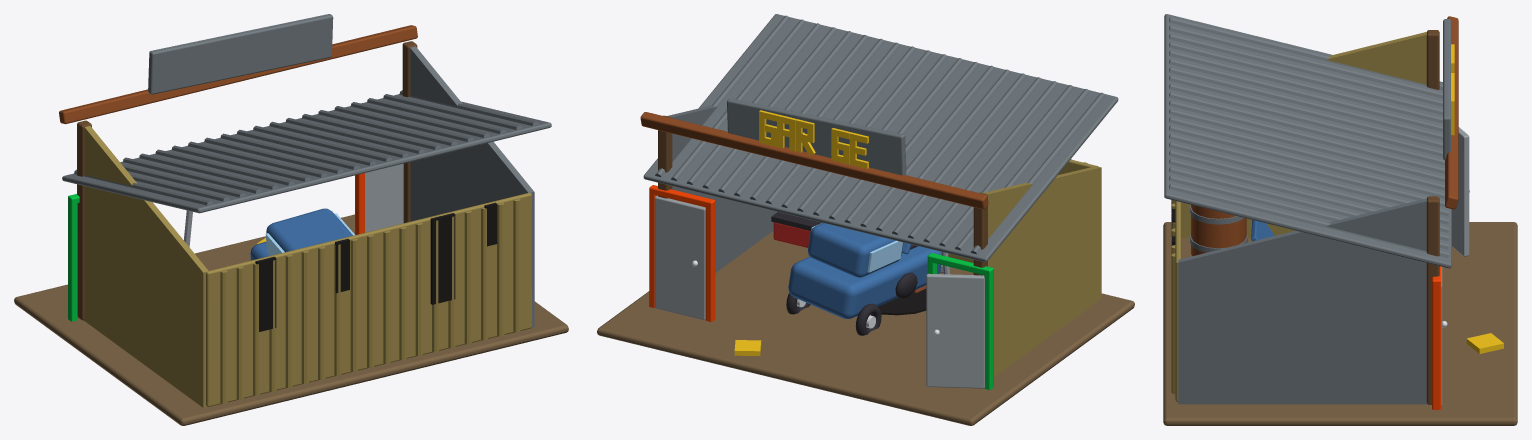
The model's file is building_vehicle_depot_t1.glb.
The picture shows the model from 3 angles, left to right: view 1: azimuth 30°, elevation 25°; view 2: azimuth 150°, elevation 25°; view 3: azimuth 270°, elevation 25°; orthographic projection. The views are drawn at different scales.
Parts seen in each view (by area): view 1: WallB.Sheet, WallS-1, WallB.Ridge, Roof.Ridge, Lot, Roof.Sheet, WallS1, Sign, Roof.Lip, Exit.Leaf, Car.Cabin, Streak2 (+6 smaller); view 2: Roof.Sheet, Lot, Roof.Ridge, WallS-1, Entry.Leaf, Exit.Leaf, Car.Body, Roof.Lip, Sign, WallS1, Car.Cabin, Exit.Jamb (+11 smaller); view 3: WallS1, Roof.Ridge, Roof.Sheet, Lot, WallS-1, Post1, Drum, Entry.Leaf, Roof.Lip, Exit.Jamb.001, Sign, WallB.Sheet (+5 smaller).
Part boxes in pixels (bbox=[...]): WallB.Sheet: bbox=[206, 193, 531, 406]; WallS-1: bbox=[84, 126, 208, 407]; WallB.Ridge: bbox=[220, 199, 520, 403]; Roof.Ridge: bbox=[74, 90, 538, 205]; Lot: bbox=[14, 214, 568, 425]; Roof.Sheet: bbox=[62, 94, 551, 213]; WallS1: bbox=[410, 46, 534, 327]; Sign: bbox=[148, 14, 333, 94]; Roof.Lip: bbox=[59, 25, 417, 124]; Exit.Leaf: bbox=[365, 163, 403, 232]; Car.Cabin: bbox=[266, 208, 352, 252]; Streak2: bbox=[430, 213, 455, 304]; Roof.Sheet: bbox=[643, 14, 1118, 262]; Lot: bbox=[597, 231, 1134, 425]; Roof.Ridge: bbox=[655, 15, 1105, 254]; WallS-1: bbox=[982, 166, 1101, 376]; Entry.Leaf: bbox=[926, 273, 984, 388]; Exit.Leaf: bbox=[654, 195, 705, 320]; Car.Body: bbox=[788, 246, 941, 318]; Roof.Lip: bbox=[640, 112, 988, 209]; Sign: bbox=[727, 98, 906, 175]; WallS1: bbox=[667, 105, 777, 272]; Car.Cabin: bbox=[808, 223, 903, 277]; Exit.Jamb: bbox=[705, 205, 715, 321]; WallS1: bbox=[1178, 198, 1427, 404]; Roof.Ridge: bbox=[1169, 17, 1449, 257]; Roof.Sheet: bbox=[1164, 14, 1451, 268]; Lot: bbox=[1163, 222, 1517, 425]; WallS-1: bbox=[1181, 32, 1426, 237]; Post1: bbox=[1426, 196, 1439, 404]; Drum: bbox=[1191, 204, 1246, 256]; Entry.Leaf: bbox=[1452, 127, 1469, 256]; Roof.Lip: bbox=[1445, 16, 1458, 209]; Exit.Jamb.001: bbox=[1432, 286, 1441, 409]; Sign: bbox=[1443, 19, 1450, 160]; WallB.Sheet: bbox=[1175, 201, 1180, 401].
Size of the model in its own units: 4.06 by 2.51 by 3.06.
